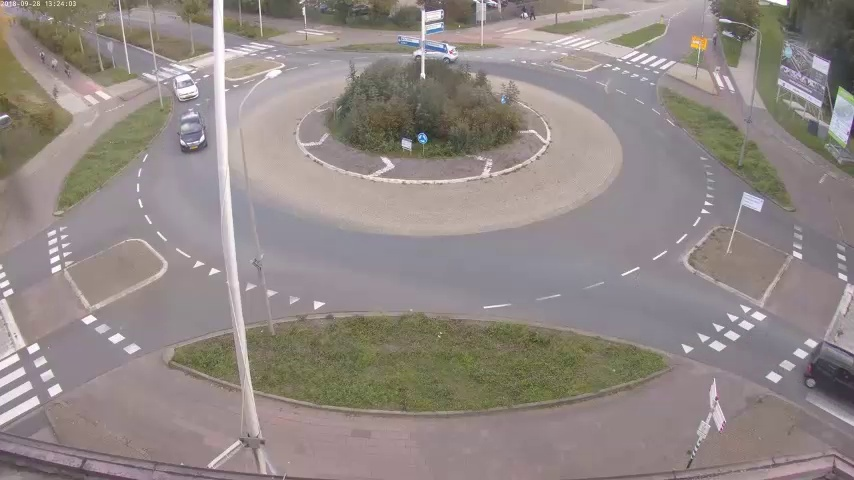car: (802, 341, 854, 406), (179, 110, 206, 153), (168, 71, 201, 101)
person: (527, 5, 538, 22)
